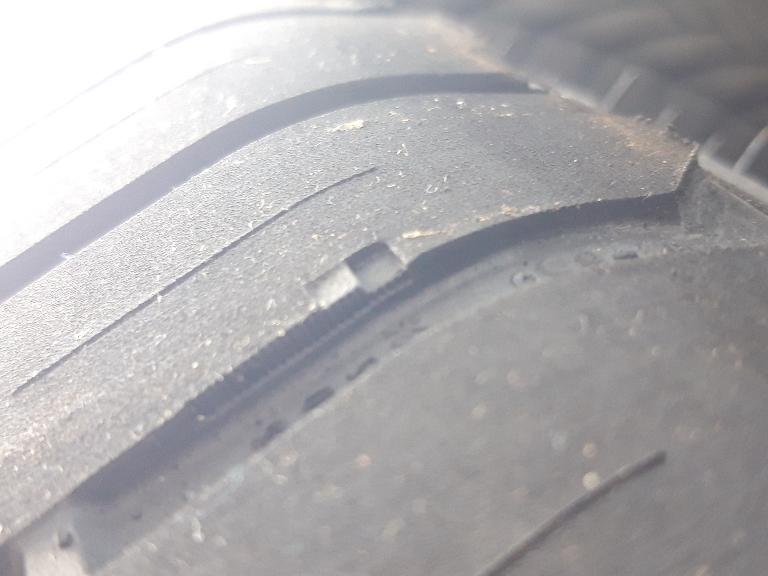temoin:25: (298, 234, 426, 334)
